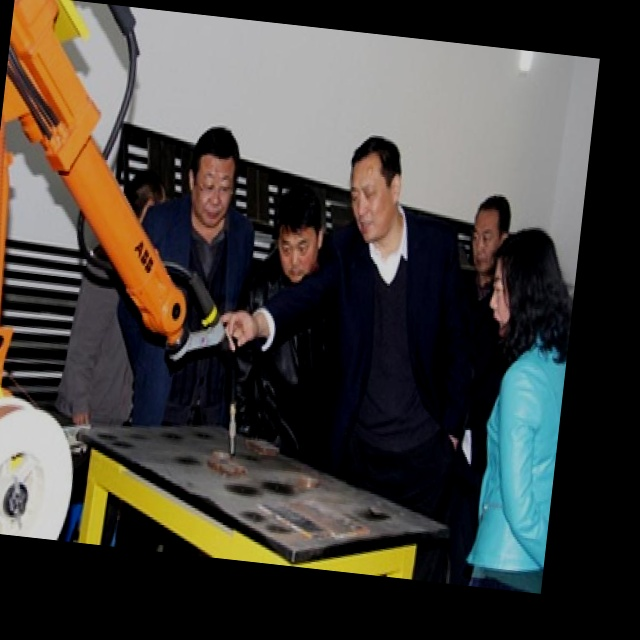Sin_Casco_Mascarrilla: (487, 225, 564, 357), (344, 136, 405, 239), (270, 186, 328, 284), (187, 125, 240, 223)
